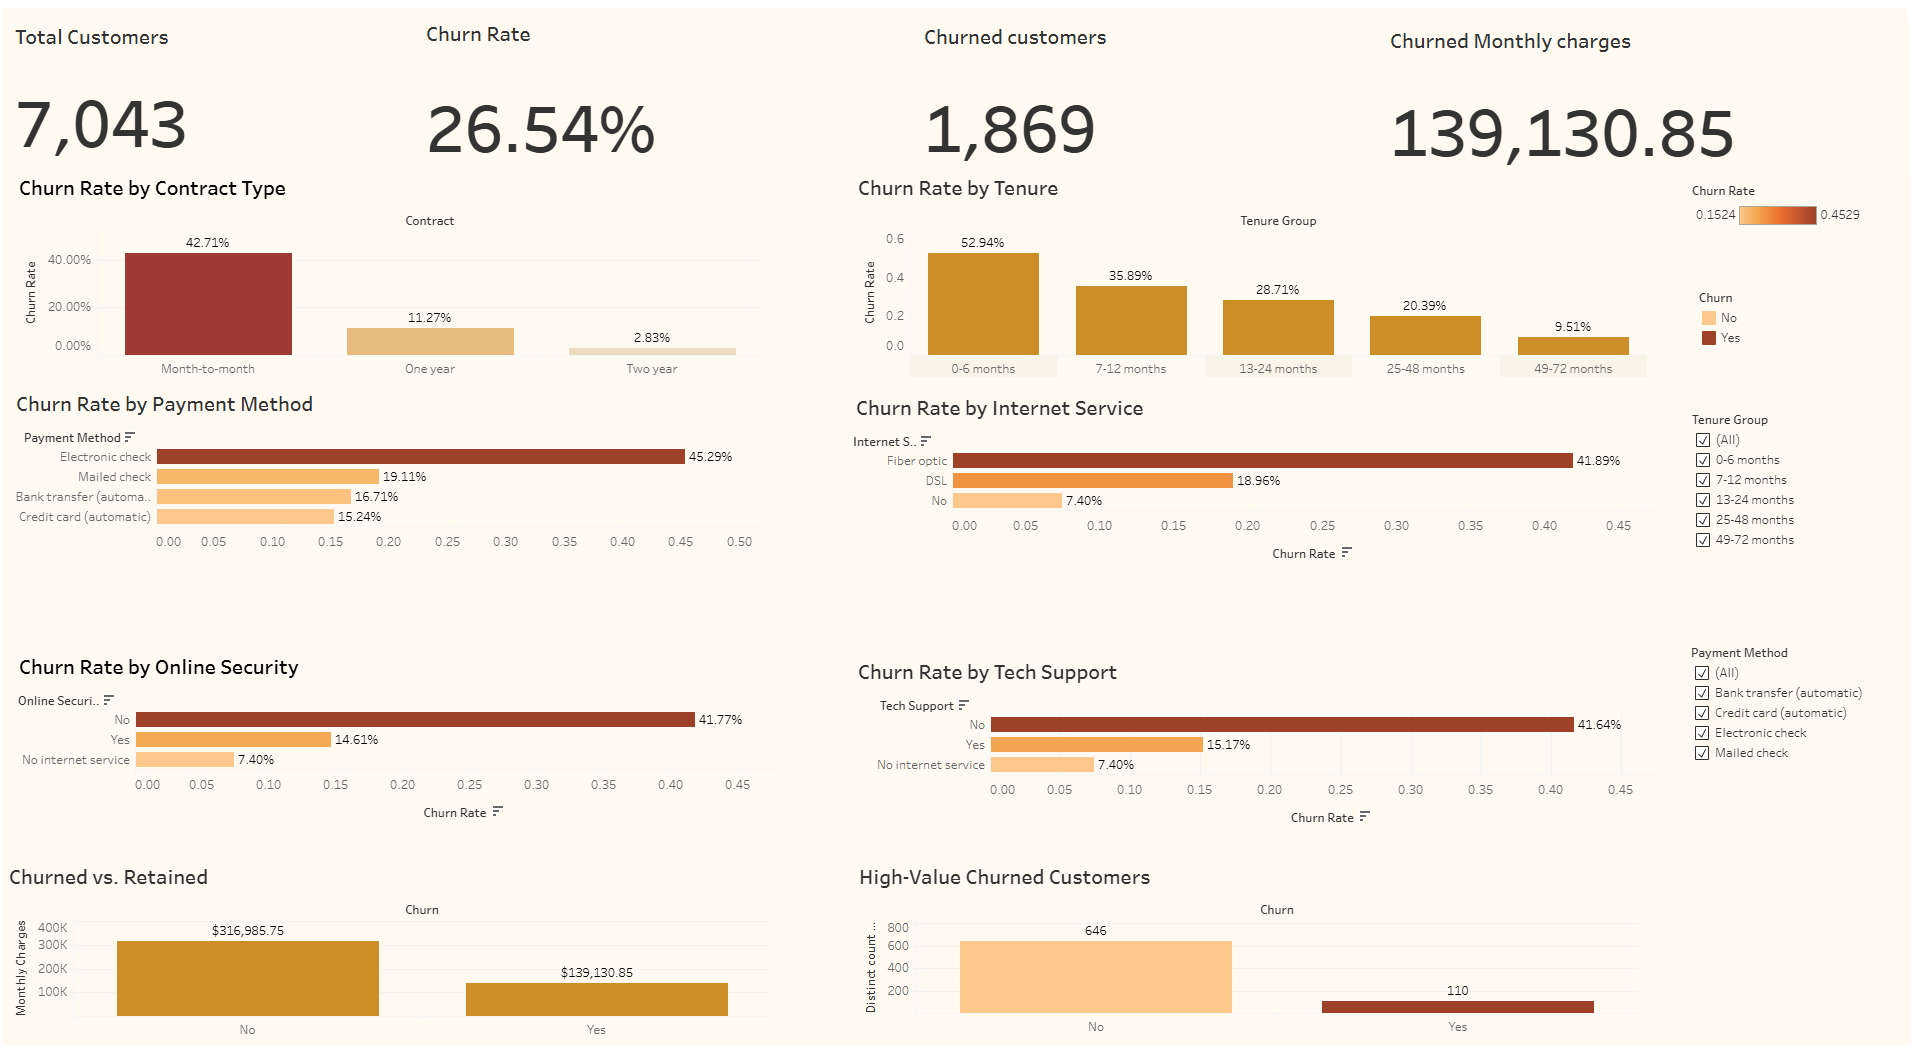

The dashboard page shown, as its layout file describes it:
{"tool":"tableau","page":{"name":"Customer Retention & Revenue Intelligence","canvas":[1000,1000],"units":"permille","ordinal":0},"visuals":[{"type":"worksheet","title":"KPI 3: Churn Rate","mark":"Automatic","box":[222.6,12.3,219.7,173]},{"type":"worksheet","title":"KPI:total_customer","mark":"Automatic","box":[8.3,15.6,197.1,158.5]},{"type":"worksheet","title":"KPI 2: Churned Customers","mark":"Automatic","box":[481.9,15.6,205.5,167.4]},{"type":"worksheet","title":"KPI 4: Monthly Charges Associated with Churn","mark":"Automatic","box":[724.4,19,269.2,168.5]},{"type":"worksheet","title":"Rate_by_contract","mark":"Automatic","rows":["Calculation_1549541658722304"],"cols":["Contract"],"box":[10.5,158.5,389.3,199.8]},{"type":"worksheet","title":"Churn Rate by Tenure","mark":"Automatic","rows":["Calculation_1549541658722304"],"cols":["TenureGroup"],"box":[447.4,158.5,413.1,199.8]},{"type":"legend","title":"Churn Rate by Payment Method","param":"[federated.0kc2q9r0ypt5ao17ncl7c01zbfrx].[usr:Calculation_1549541658722304:qk]","box":[883.8,173,90.1,84.8]},{"type":"legend","title":"High-Value Churned Customers","param":"[federated.0kc2q9r0ypt5ao17ncl7c01zbfrx].[none:Churn:nk]","box":[887.3,274.6,89.5,81.5]},{"type":"worksheet","title":"Churn Rate by Payment Method","mark":"Automatic","rows":["PaymentMethod"],"cols":["Calculation_1549541658722304"],"box":[8.7,363.8,391.1,236.6]},{"type":"worksheet","title":"Churn Rate by Internet Service","mark":"Automatic","rows":["InternetService"],"cols":["Calculation_1549541658722304"],"box":[446.2,367.2,418.9,226.6]},{"type":"filter","title":"Churn Rate by Tenure","param":"[federated.0kc2q9r0ypt5ao17ncl7c01zbfrx].[none:TenureGroup:nk]","box":[883.8,389.5,102.9,154]},{"type":"filter","title":"Churn Rate by Payment Method","param":"[federated.0kc2q9r0ypt5ao17ncl7c01zbfrx].[none:PaymentMethod:nk]","box":[883.2,610.5,102.9,132.8]},{"type":"worksheet","title":"Churn Rate by Online Security","mark":"Automatic","rows":["OnlineSecurity"],"cols":["Calculation_1549541658722304"],"box":[10.5,613.8,395.7,199.8]},{"type":"worksheet","title":"Churn Rate by Tech Support","mark":"Automatic","rows":["TechSupport"],"cols":["Calculation_1549541658722304"],"box":[447.4,618.3,417.2,217.6]},{"type":"worksheet","title":"Churned vs. Retained","mark":"Automatic","rows":["MonthlyCharges"],"cols":["Churn"],"box":[5.1,812.5,399.2,173]},{"type":"worksheet","title":"High-Value Churned Customers","mark":"Automatic","rows":["customerID"],"cols":["Churn"],"box":[448,812.5,408.2,170.8]}]}

Visuals, with their boxes on the dashboard's canvas, which has no fixed pixel size, in thousandths of its width and height (x1, y1, x2, y2). These are canvas units, not pixel positions in the 1914x1046 screenshot, which may show the page scaled, cropped or inside an application window:
"KPI 3: Churn Rate" worksheet: left=223, top=12, right=442, bottom=185
"KPI:total_customer" worksheet: left=8, top=16, right=205, bottom=174
"KPI 2: Churned Customers" worksheet: left=482, top=16, right=687, bottom=183
"KPI 4: Monthly Charges Associated with Churn" worksheet: left=724, top=19, right=994, bottom=188
"Rate_by_contract" worksheet: left=10, top=158, right=400, bottom=358
"Churn Rate by Tenure" worksheet: left=447, top=158, right=860, bottom=358
"Churn Rate by Payment Method" legend: left=884, top=173, right=974, bottom=258
"High-Value Churned Customers" legend: left=887, top=275, right=977, bottom=356
"Churn Rate by Payment Method" worksheet: left=9, top=364, right=400, bottom=600
"Churn Rate by Internet Service" worksheet: left=446, top=367, right=865, bottom=594
"Churn Rate by Tenure" filter: left=884, top=390, right=987, bottom=544
"Churn Rate by Payment Method" filter: left=883, top=610, right=986, bottom=743
"Churn Rate by Online Security" worksheet: left=10, top=614, right=406, bottom=814
"Churn Rate by Tech Support" worksheet: left=447, top=618, right=865, bottom=836
"Churned vs. Retained" worksheet: left=5, top=812, right=404, bottom=986
"High-Value Churned Customers" worksheet: left=448, top=812, right=856, bottom=983
